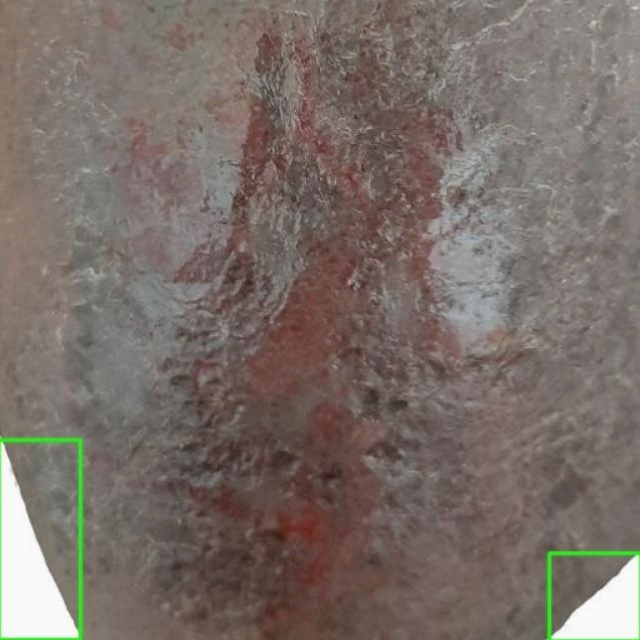Contact Dermatitis: (0, 441, 80, 639), (549, 553, 639, 639)
